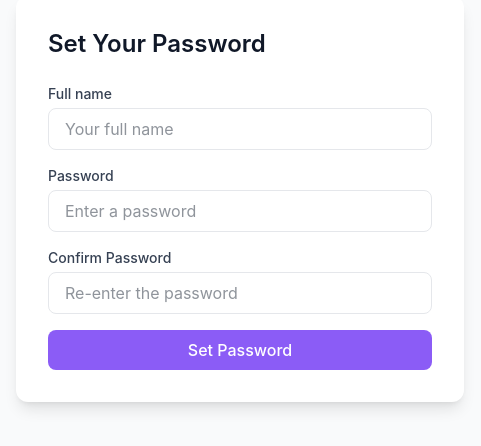
Test case: AcceptInvite › blocks submit and shows an error when the name is empty
Type "secret123" into the password field labelled "Password" at (240, 211), box [48, 190, 432, 232]
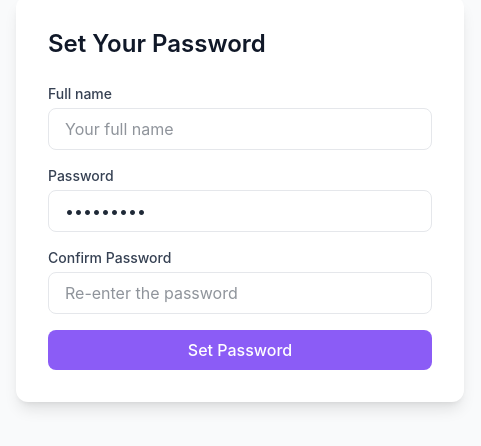
Type "secret123" into the password field labelled "Confirm Password" at (240, 293), box [48, 272, 432, 314]
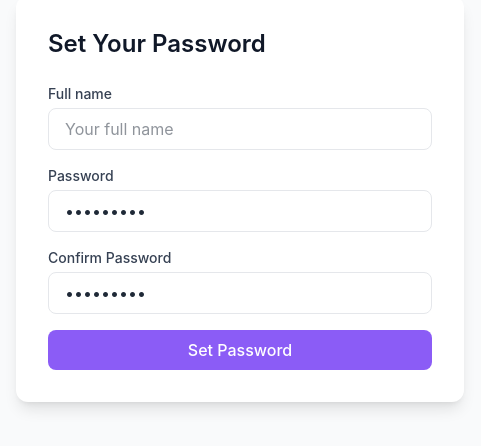
Submit the form labelled "Password", box [48, 84, 432, 370]
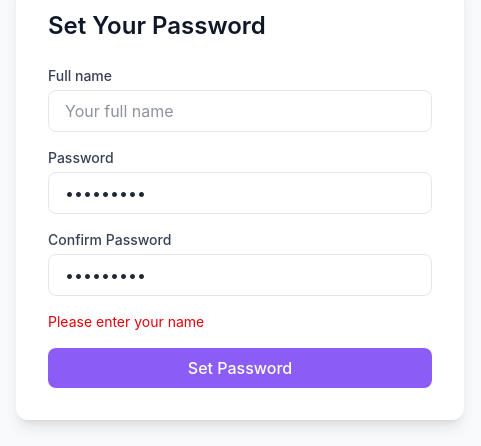
Check: the text "Please enter your name" is shown, box [48, 313, 204, 330]
